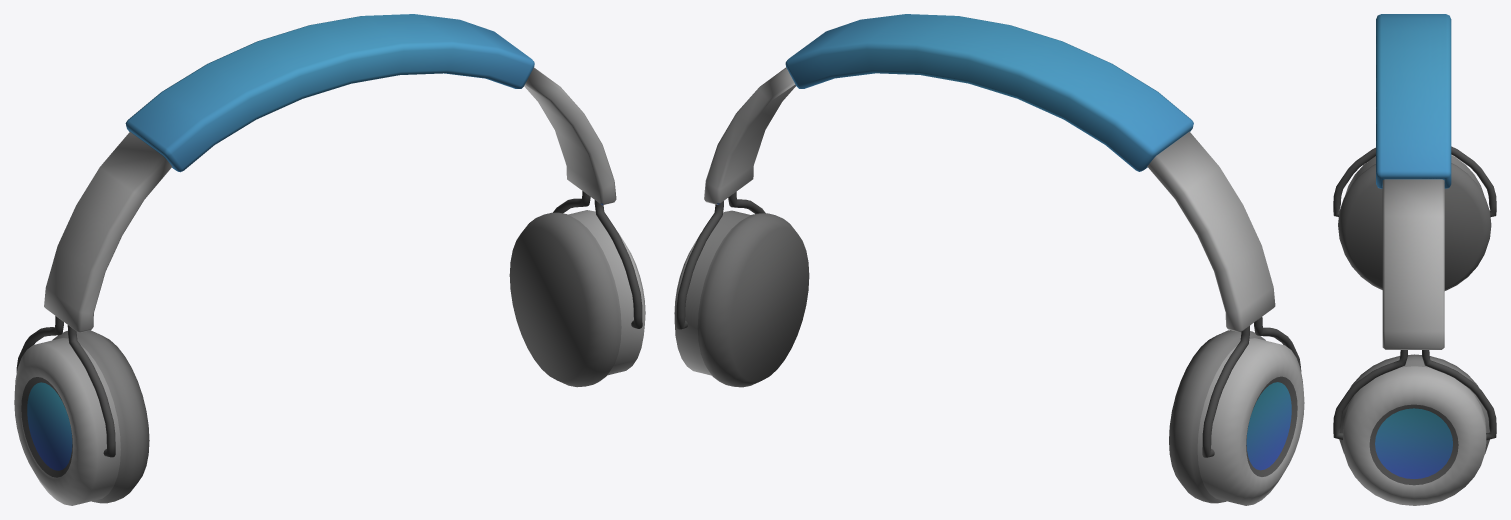
The model's file is earphone6.fbx.
3 views of the same model, side by side, from view 1: azimuth 30°, elevation 25°; view 2: azimuth 150°, elevation 25°; view 3: azimuth 270°, elevation 25° (orthographic). The views are drawn at different scales.
Parts seen in each view (by area): view 1: Plane.006; view 2: Plane.006; view 3: Plane.006.
Part boxes in pixels (x1,y1,x2,y2): Plane.006: [14, 14, 645, 505]; Plane.006: [674, 14, 1304, 505]; Plane.006: [1333, 14, 1496, 505].
Bounding box in the file's own units: 88.17 × 304 × 206.
